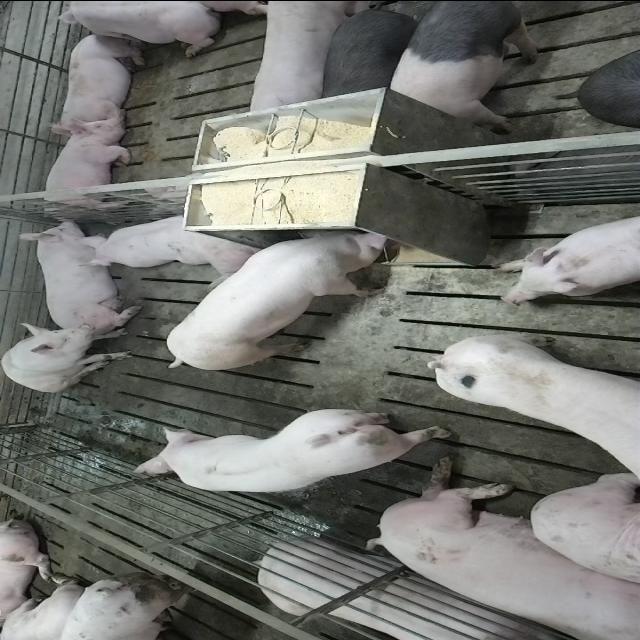Feeding: (165, 219, 397, 367)
Lateral_lying: (364, 456, 636, 638), (257, 537, 613, 640)
Sitting: (1, 319, 135, 392)
Standing: (428, 324, 640, 498), (127, 407, 460, 497), (384, 2, 552, 128), (243, 3, 369, 122), (318, 2, 419, 104)
Sternal_lying: (495, 208, 640, 306), (21, 217, 134, 326), (79, 210, 264, 272), (46, 2, 228, 56), (52, 31, 148, 130), (37, 120, 135, 215)
